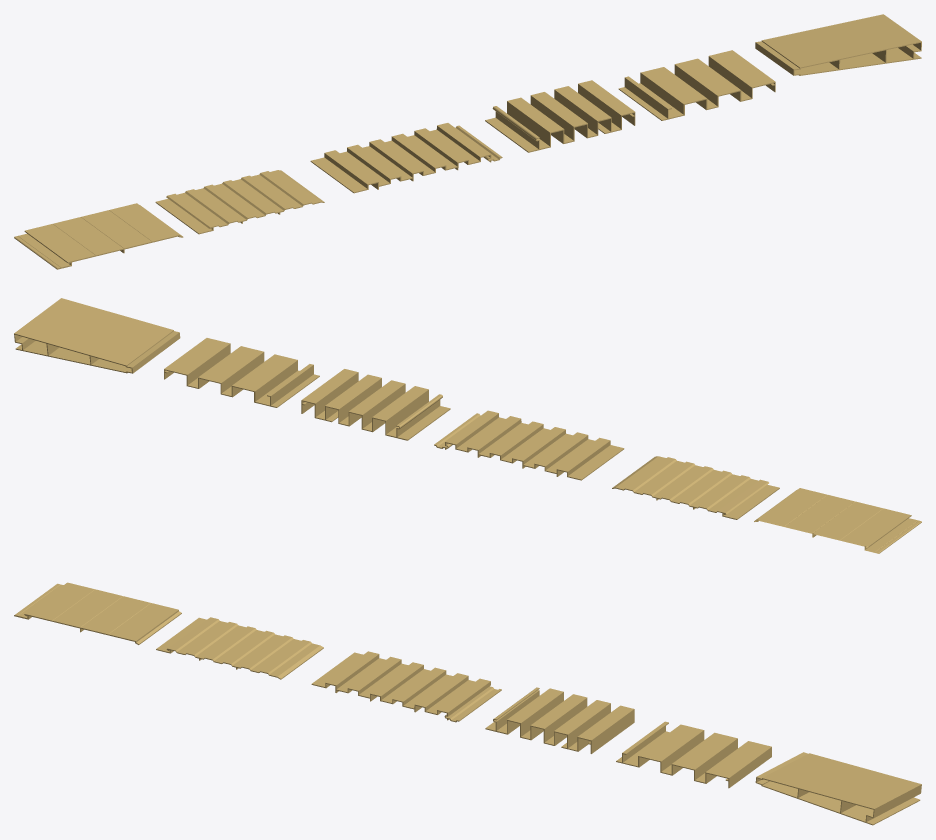
File: dcc5357e-e6f0-4c3f-a51e-13b50b1cf978.glb
The picture shows the model from 3 angles, top to bottom: view 1: azimuth 30°, elevation 25°; view 2: azimuth 150°, elevation 25°; view 3: azimuth 330°, elevation 25°; orthographic projection.
Parts seen in each view (by area): view 1: PERFIS lambril FINAL.dwg#1, PERFIS lambril FINAL.dwg#2, 107710, 108346, 101289, 103952; view 2: PERFIS lambril FINAL.dwg#2, PERFIS lambril FINAL.dwg#1, 107710, 108346, 101289, 103952; view 3: PERFIS lambril FINAL.dwg#1, PERFIS lambril FINAL.dwg#2, 107710, 108346, 103952, 101289.
Part boxes in pixels (x1,y1,x2,y2): PERFIS lambril FINAL.dwg#1: [310, 123, 502, 193]; PERFIS lambril FINAL.dwg#2: [755, 14, 921, 75]; 107710: [485, 80, 635, 152]; 108346: [618, 50, 775, 120]; 101289: [14, 203, 183, 269]; 103952: [155, 170, 324, 234]; PERFIS lambril FINAL.dwg#2: [14, 298, 180, 373]; PERFIS lambril FINAL.dwg#1: [434, 410, 624, 480]; 107710: [301, 369, 450, 440]; 108346: [164, 338, 319, 407]; 101289: [754, 488, 921, 553]; 103952: [612, 456, 779, 519]; PERFIS lambril FINAL.dwg#1: [311, 651, 501, 722]; PERFIS lambril FINAL.dwg#2: [755, 752, 921, 825]; 107710: [485, 687, 634, 753]; 108346: [616, 721, 771, 788]; 103952: [156, 617, 323, 679]; 101289: [14, 582, 181, 644].
Bounding box in the file's own units: 1.16 × 0.0277 × 0.1129.
